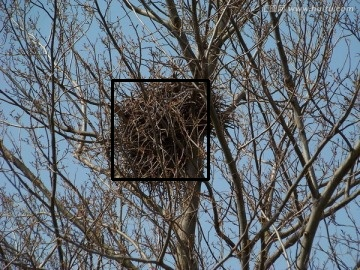bird-nest: (112, 80, 208, 179)
